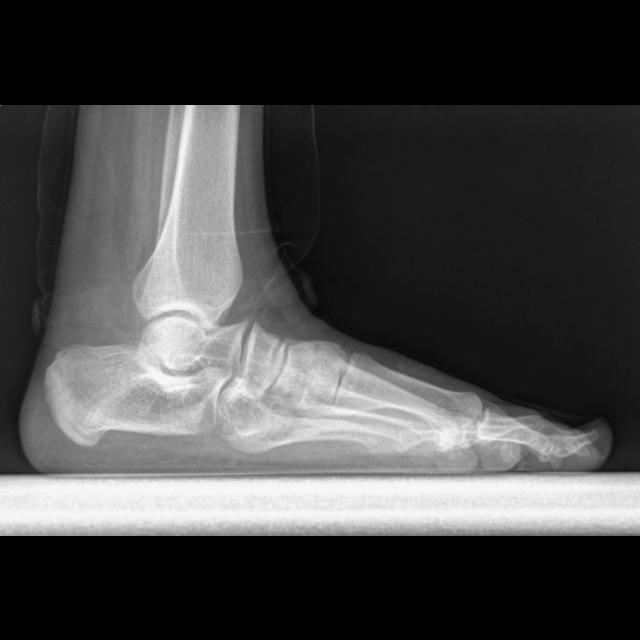a: (45, 342, 234, 450)
b: (236, 322, 287, 393)
c: (330, 352, 483, 433)
